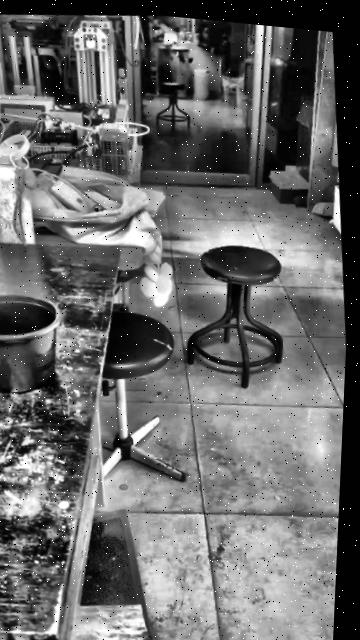pot: (0, 288, 68, 399)
